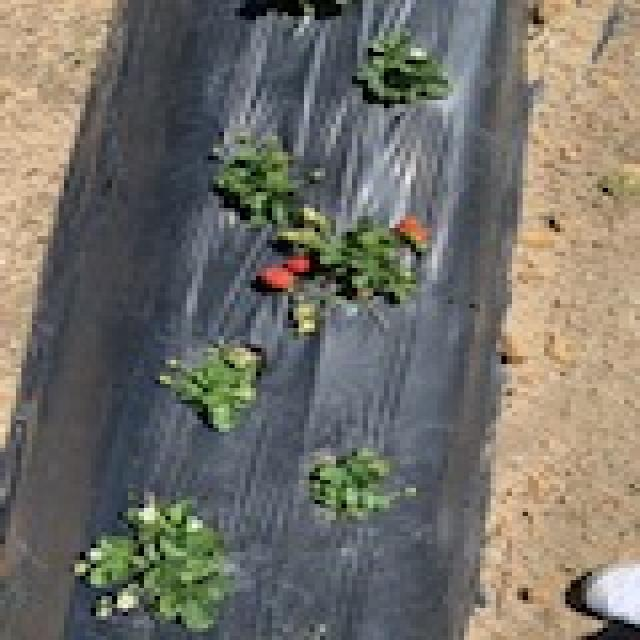unripe: (256, 264, 299, 292), (394, 224, 426, 252), (282, 252, 314, 276)
